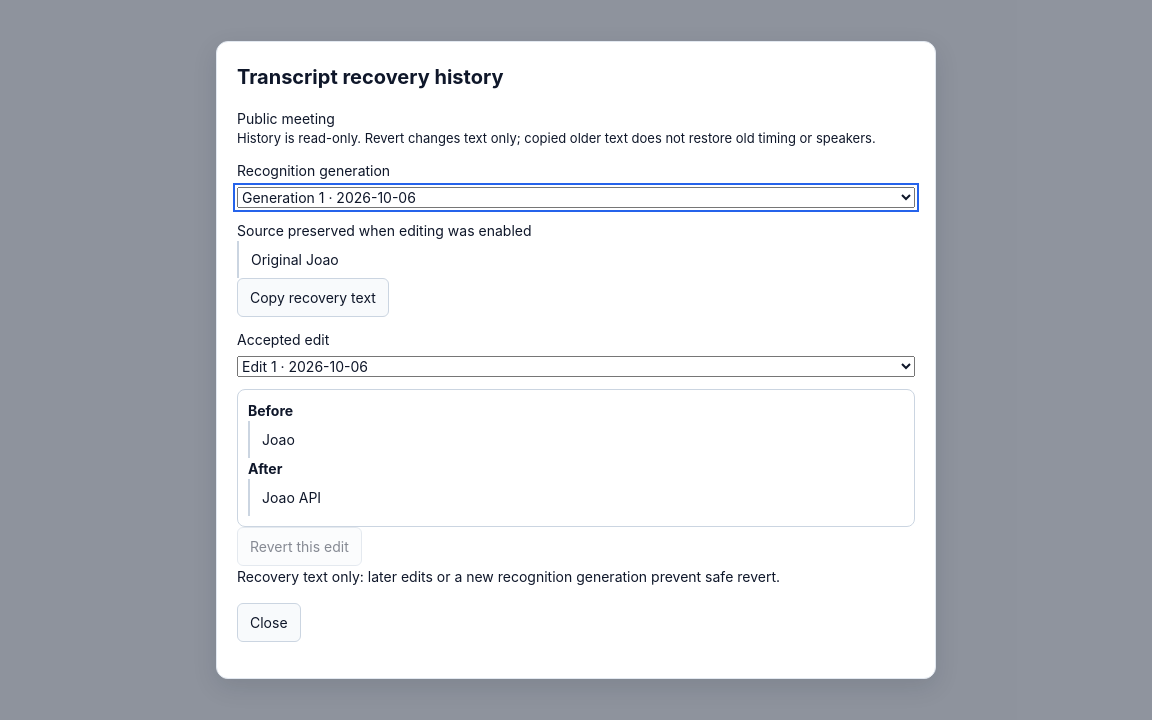
Scenario: older recognized text remains readable after a new generation and cannot restore old identity
expect the text "Original Joao" is shown: met, box [237,241,915,278]
expect the button "Revert this edit" is disabled: met, box [237,527,362,566]
Select "Generation 2 · 2026-10-06" in the dropdown labelled "Recognition generation" at (576, 198), box [237,187,915,208]
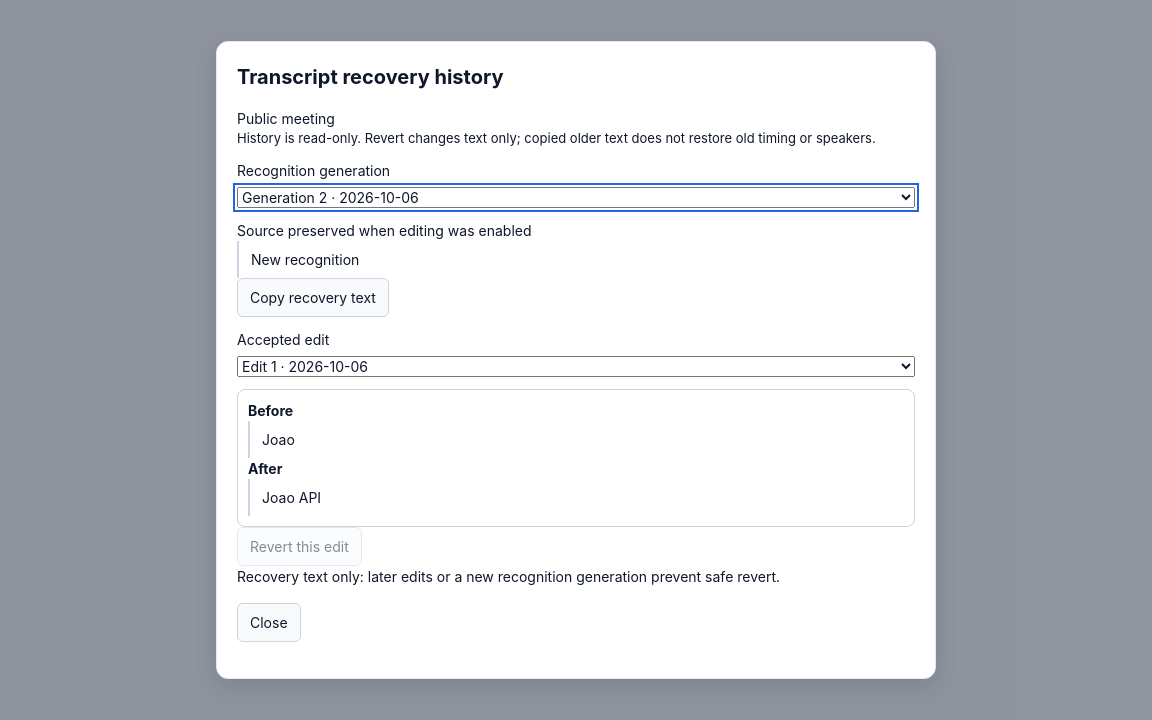
expect the text "New recognition" is shown: met, box [237,241,915,278]
